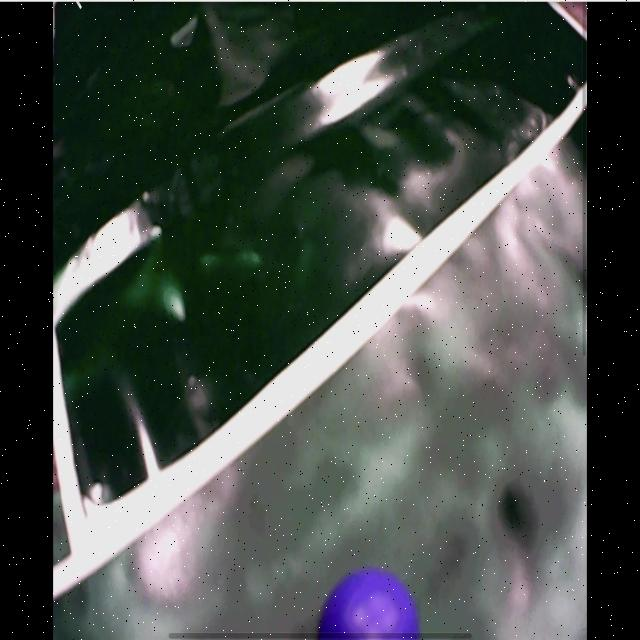ball: (319, 573, 421, 640)
